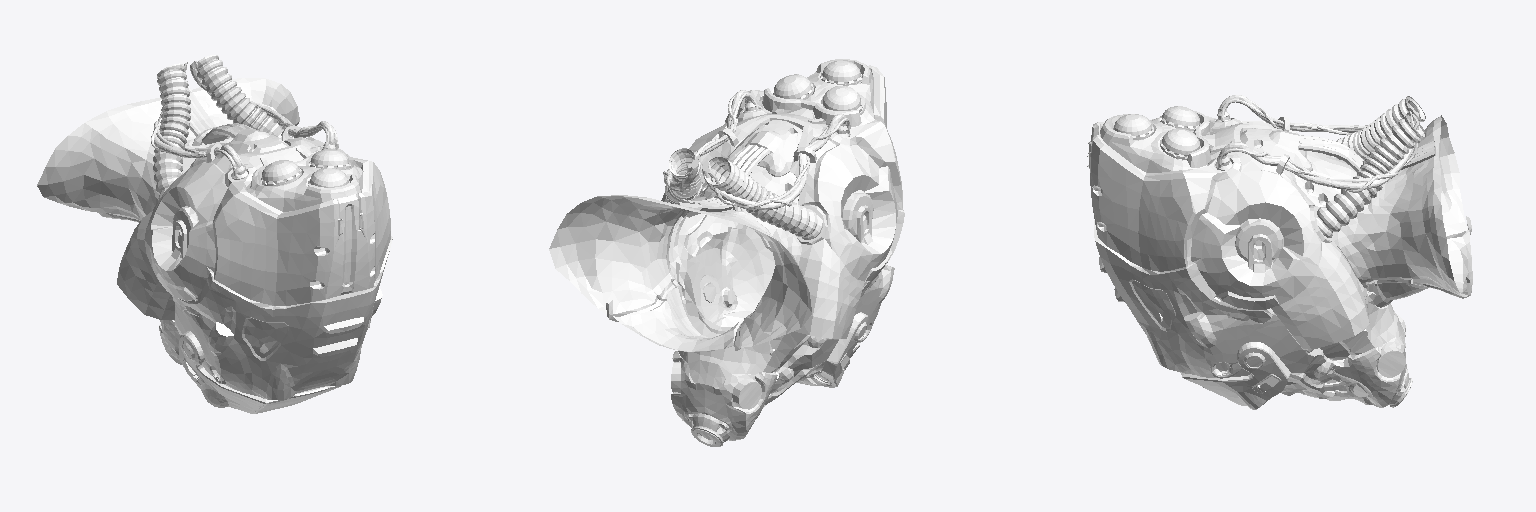
The model's file is helmet.obj.
The picture shows the model from 3 angles: view 1: azimuth 30°, elevation 25°; view 2: azimuth 150°, elevation 25°; view 3: azimuth 270°, elevation 25°; orthographic projection.
Parts seen in each view (by area): view 1: helmet; view 2: helmet; view 3: helmet.
Part boxes in pixels (bbox=[...]): helmet: bbox=[37, 55, 392, 413]; helmet: bbox=[549, 59, 904, 446]; helmet: bbox=[1087, 95, 1472, 409].
Size of the model in its own units: 2.3 by 2.5 by 2.92.